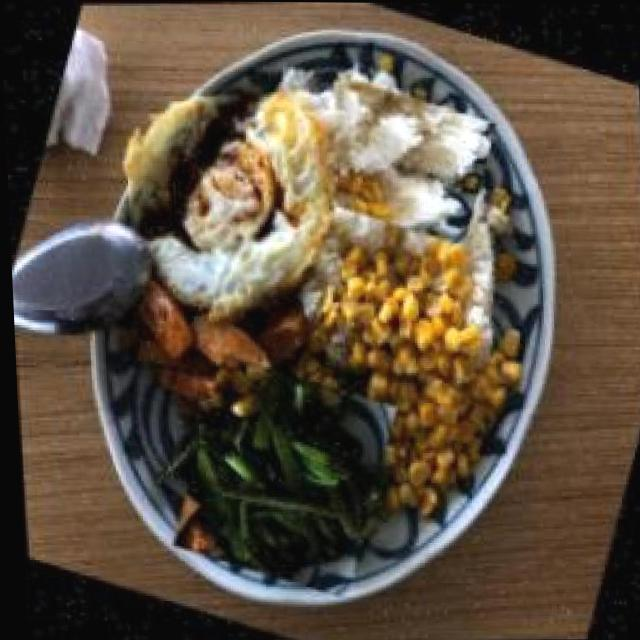fried_eggs: (79, 48, 367, 343)
rice: (307, 70, 499, 256)
water_spinach: (155, 356, 409, 602)
